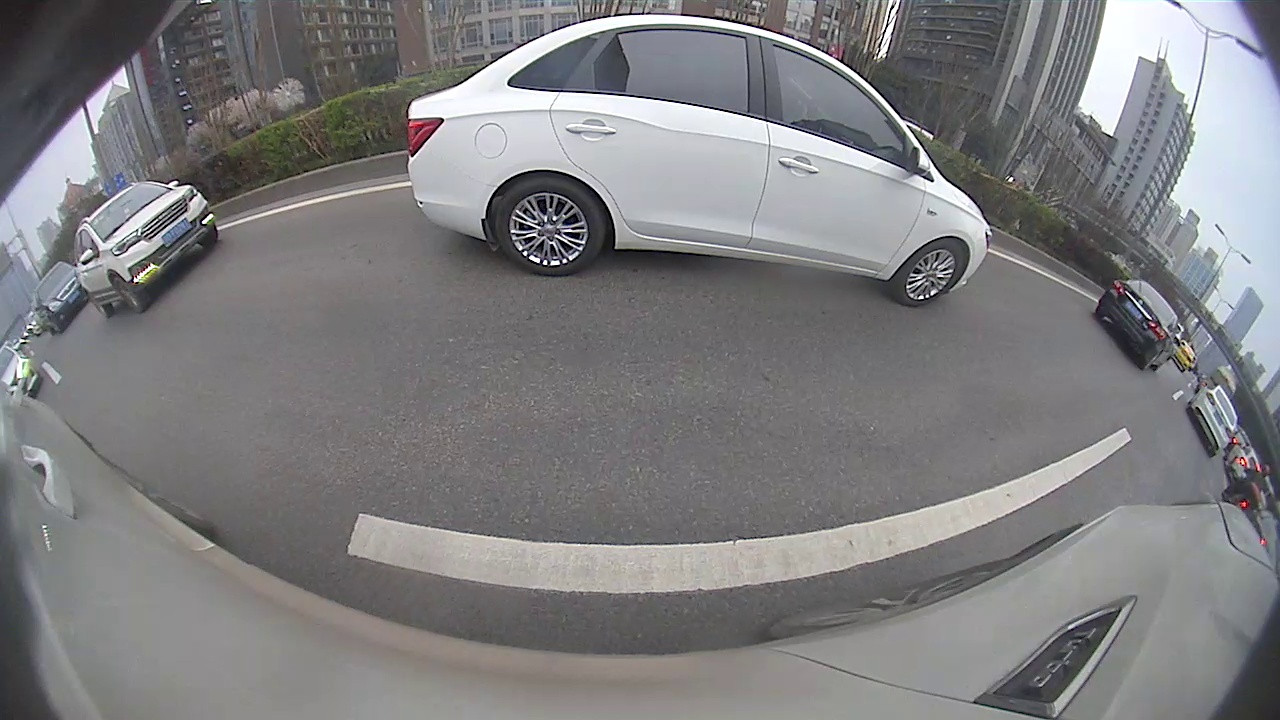car: (405, 14, 992, 307), (72, 180, 220, 318), (1095, 280, 1180, 372), (1185, 384, 1240, 457)
front: (896, 242, 972, 305), (111, 277, 138, 314)
rear: (496, 180, 606, 277)
